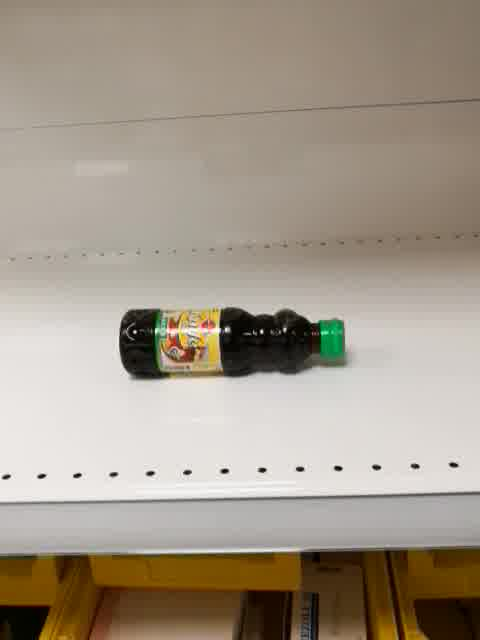cookingoil: (118, 305, 346, 380)
